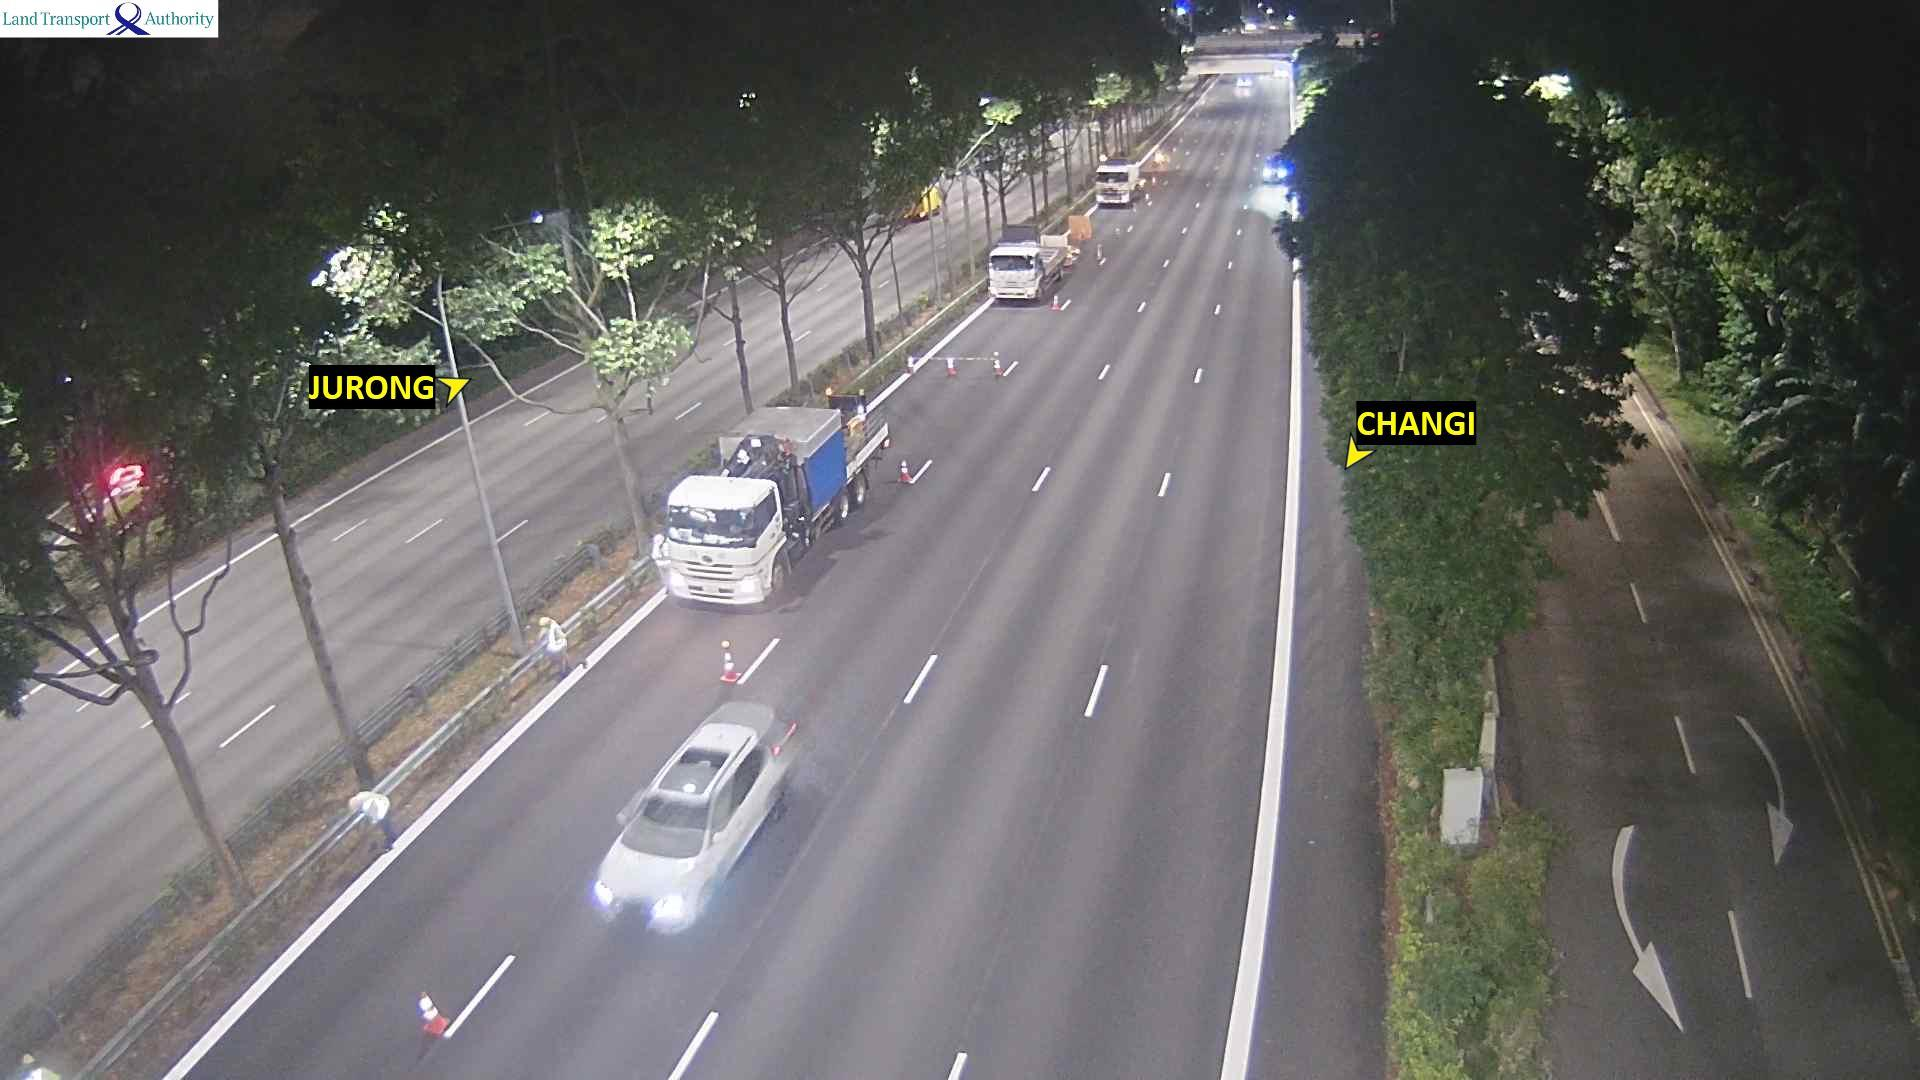cars: (589, 698, 799, 936), (1522, 309, 1560, 355), (901, 185, 942, 222), (1259, 149, 1294, 185), (1234, 75, 1253, 94)
trucks: (650, 388, 890, 604), (985, 223, 1065, 302), (1092, 156, 1141, 207)
